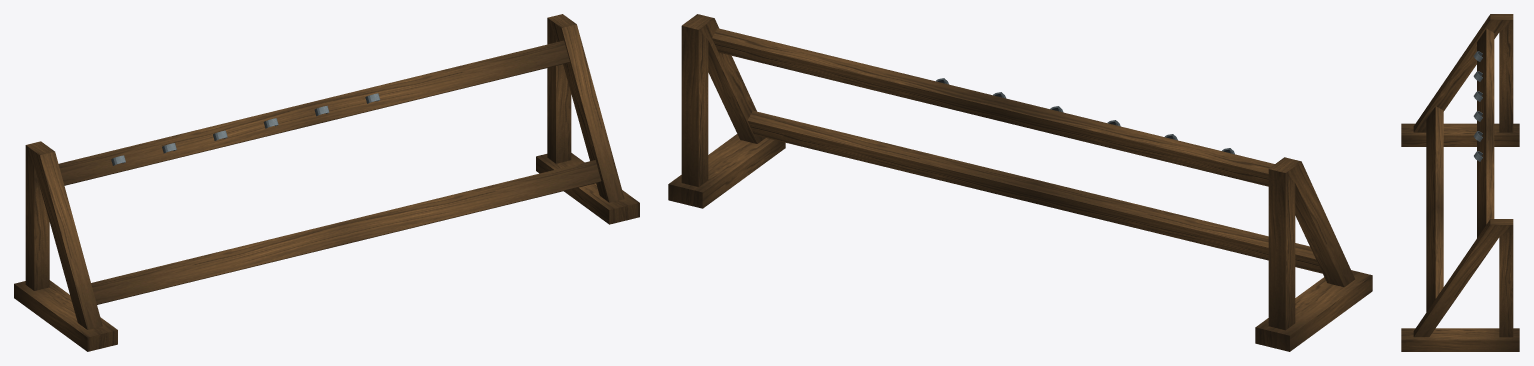
File: Weapon_Rack.FBX
3 views of the same model, side by side, from view 1: azimuth 30°, elevation 25°; view 2: azimuth 150°, elevation 25°; view 3: azimuth 270°, elevation 25° (orthographic). The views are drawn at different scales.
Visible parts, largest first — view 1: Weapon_Rack; view 2: Weapon_Rack; view 3: Weapon_Rack.
Boxes of the visible parts, x1,y1,x2,y2 form: Weapon_Rack: (14,14,639,351); Weapon_Rack: (668,14,1372,351); Weapon_Rack: (1401,14,1519,351).
Size of the model in its own units: 377 by 101 by 86.9.
